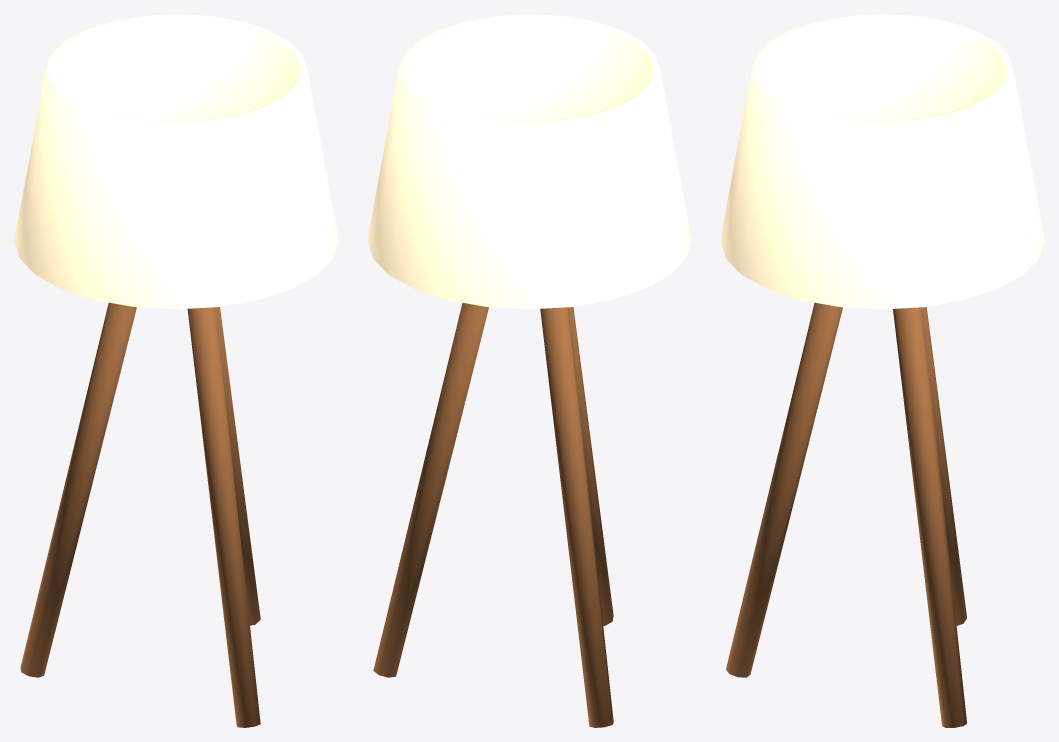
File: floorLamp.glb
3 renders of one model, left to right at view 1: azimuth 30°, elevation 25°; view 2: azimuth 150°, elevation 25°; view 3: azimuth 270°, elevation 25°, orthographic.
Visible parts, largest first — view 1: floorLamp_shade, floorLamp_tripod_0, floorLamp_tripod_2, floorLamp_tripod_1; view 2: floorLamp_shade, floorLamp_tripod_2, floorLamp_tripod_1, floorLamp_tripod_0; view 3: floorLamp_shade, floorLamp_tripod_1, floorLamp_tripod_0, floorLamp_tripod_2.
Part boxes in pixels (box(x1,y1,x2,y2)): floorLamp_shade: box(14, 14, 338, 309); floorLamp_tripod_0: box(187, 307, 260, 727); floorLamp_tripod_2: box(20, 302, 136, 677); floorLamp_tripod_1: box(215, 307, 260, 625); floorLamp_shade: box(367, 14, 691, 309); floorLamp_tripod_2: box(540, 307, 613, 727); floorLamp_tripod_1: box(373, 302, 488, 677); floorLamp_tripod_0: box(568, 307, 613, 625); floorLamp_shade: box(720, 14, 1044, 309); floorLamp_tripod_1: box(893, 307, 966, 727); floorLamp_tripod_0: box(726, 302, 842, 677); floorLamp_tripod_2: box(922, 307, 966, 625).
Size of the model in its own units: 0.72 by 1.48 by 0.72.
